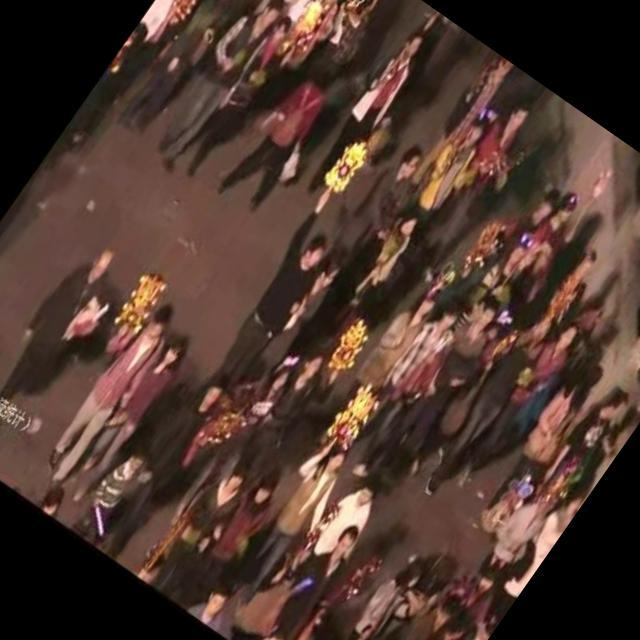person: (16, 281, 190, 497), (403, 295, 572, 509), (82, 361, 242, 563), (396, 92, 552, 290), (326, 286, 482, 482), (364, 290, 518, 487), (137, 0, 295, 183), (466, 348, 616, 540), (54, 322, 204, 512), (210, 42, 362, 228), (442, 313, 590, 504), (162, 346, 307, 536), (214, 432, 362, 617), (0, 233, 140, 427), (296, 19, 438, 201), (166, 7, 308, 188), (326, 258, 466, 434), (203, 220, 344, 393), (168, 459, 300, 623), (110, 0, 256, 144), (138, 448, 264, 602), (240, 510, 381, 640), (310, 198, 430, 348), (240, 244, 356, 392), (526, 374, 640, 521), (400, 96, 515, 233), (236, 346, 349, 481), (327, 135, 438, 270), (308, 546, 436, 640), (66, 440, 156, 549), (332, 465, 397, 533), (182, 572, 244, 636)
